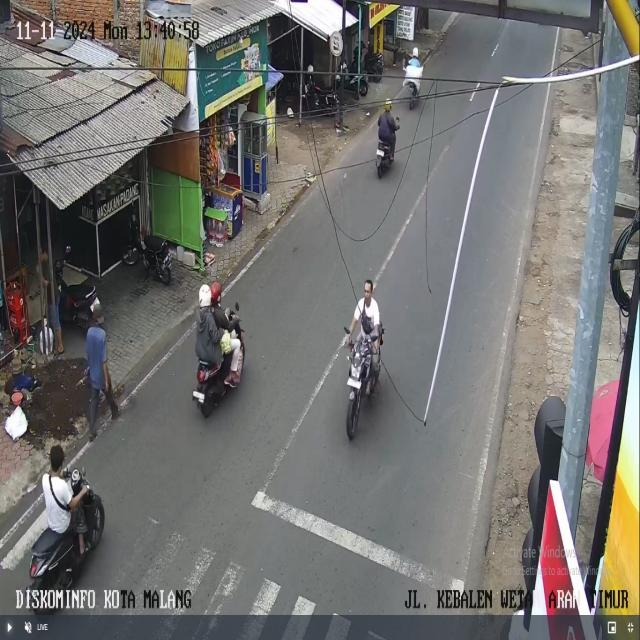Helmet: (199, 284, 210, 307), (210, 281, 221, 303), (384, 99, 391, 111), (412, 47, 418, 57), (307, 64, 313, 72)
Number Plate: (348, 377, 361, 388), (192, 391, 204, 402), (376, 149, 384, 156)
